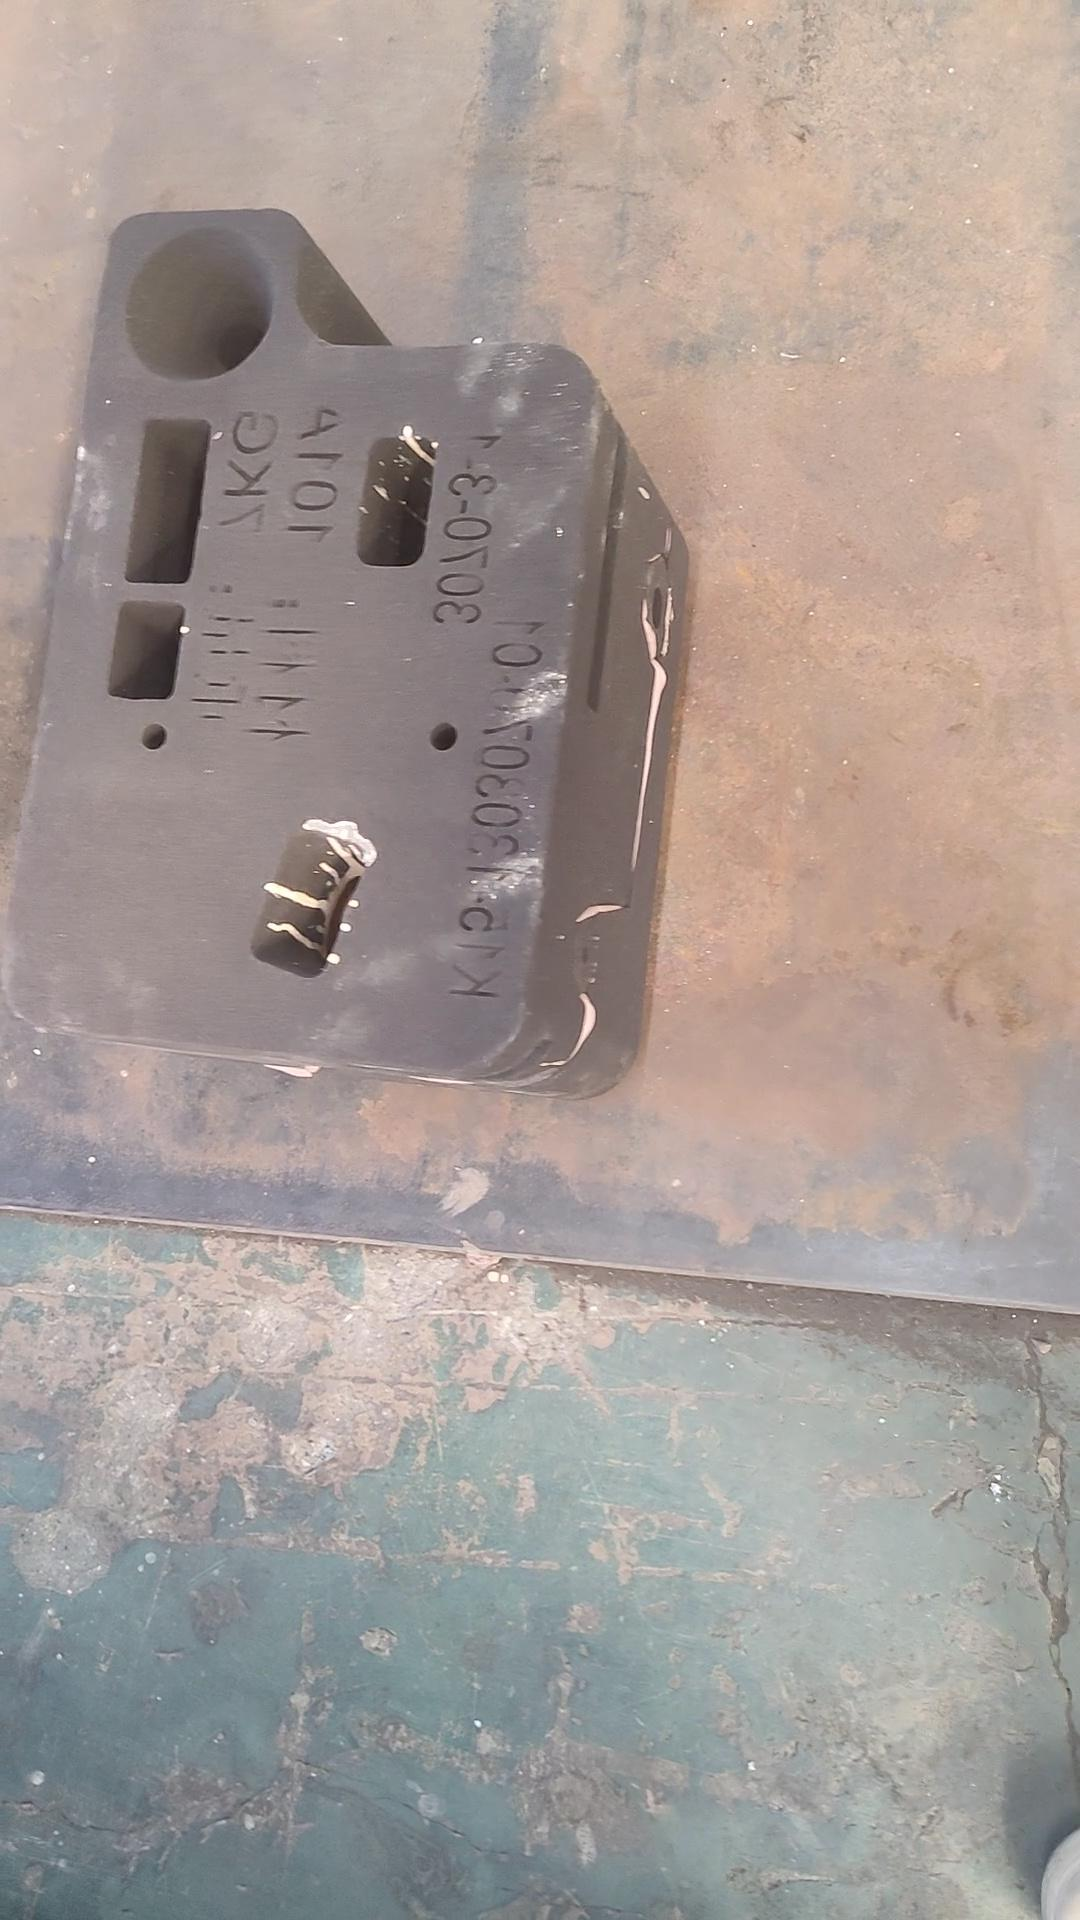pouring hole: (125, 225, 274, 380)
